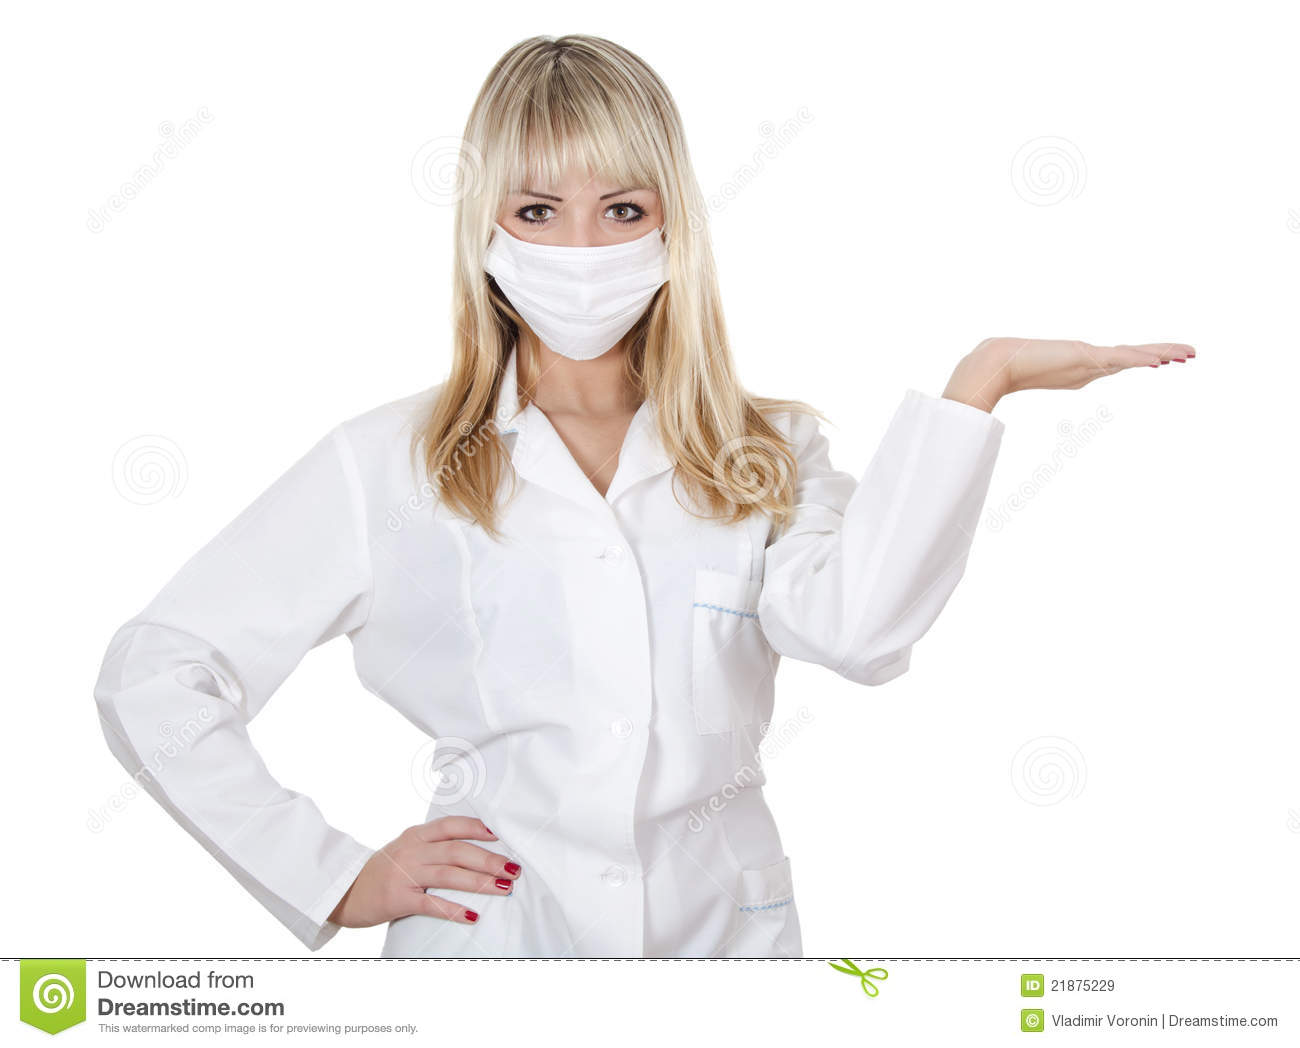mask: (495, 226, 683, 368)
